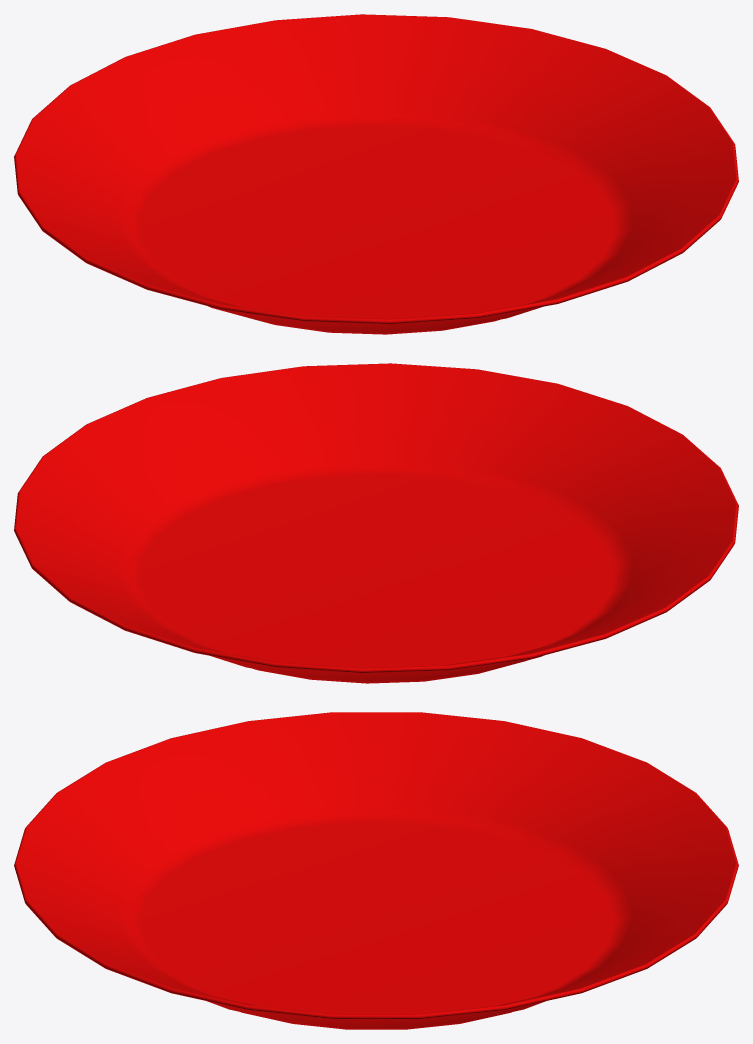
The model's file is thorkea_plates_grp.fbx.
3 renders of one model, top to bottom at view 1: azimuth 30°, elevation 25°; view 2: azimuth 150°, elevation 25°; view 3: azimuth 270°, elevation 25°, orthographic.
Visible parts, largest first — view 1: thorkea_plate_ai2; view 2: thorkea_plate_ai2; view 3: thorkea_plate_ai2.
Boxes of the visible parts, x1=… form: thorkea_plate_ai2: x1=14, y1=14, x2=738, y2=334; thorkea_plate_ai2: x1=14, y1=363, x2=738, y2=683; thorkea_plate_ai2: x1=14, y1=712, x2=738, y2=1029.
Size of the model in its own units: 20.8 by 2.25 by 20.96.
